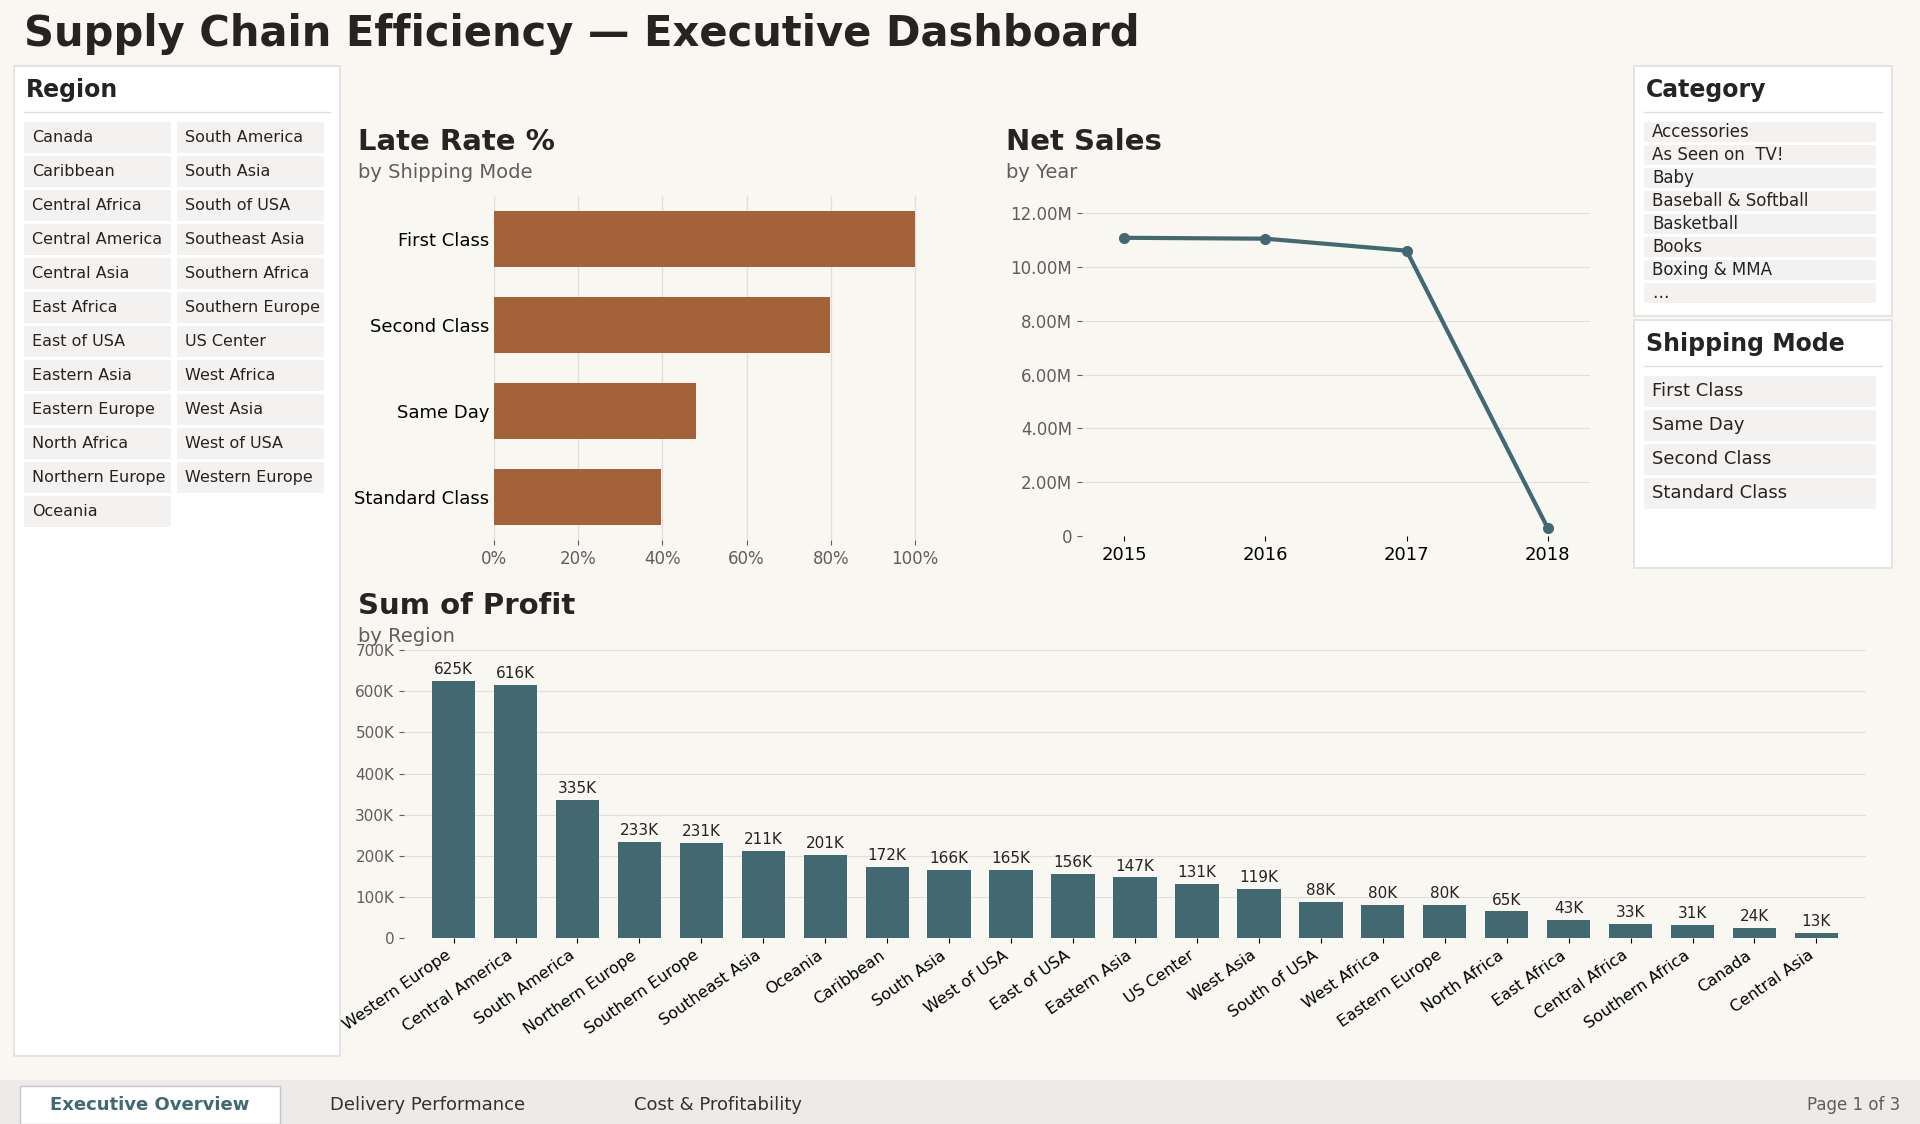

Layout of this report page (visuals, bound fields, positions):
{"tool":"powerbi","page":{"name":"Executive Overview","canvas":[1920,1080],"ordinal":0},"visuals":[{"type":"barChart","title":"Late Rate %","fields":{"Category":["Fact_OrderItems.Shipping_Mode"],"Y":["Fact_OrderItems.Late Rate %"]},"box":[344,116,632,454],"z":4000},{"type":"lineChart","title":"Net Sales","fields":{"Category":["Fact_OrderItems.Order_Year_Month.Variation.Date Hierarchy.Year","Fact_OrderItems.Order_Year_Month.Variation.Date Hierarchy.Quarter","Fact_OrderItems.Order_Year_Month.Variation.Date Hierarchy.Month","Fact_OrderItems.Order_Year_Month.Variation.Date Hierarchy.Day"],"Y":["Sum(Fact_OrderItems.Net_Sales)"]},"box":[992,116,638,454],"z":5000},{"type":"columnChart","fields":{"Category":["Fact_OrderItems.Region"],"Y":["Sum(Fact_OrderItems.Profit)"]},"box":[344,580,1552,478],"z":6000},{"type":"advancedSlicerVisual","fields":{"Values":["Fact_OrderItems.Region"]},"box":[10,64,334,994],"z":7000},{"type":"advancedSlicerVisual","fields":{"Values":["Fact_OrderItems.Category"]},"box":[1630,64,266,254],"z":8000},{"type":"advancedSlicerVisual","title":"Shipping Mode","fields":{"Values":["Fact_OrderItems.Shipping_Mode"]},"box":[1630,318,266,252],"z":9000},{"type":"textbox","box":[10,0,1262,64],"z":10000}]}

Visuals, with their boxes on the page's 1920x1080 design canvas (x1, y1, x2, y2). These are canvas units, not pixel positions in the 1920x1124 screenshot, which may show the page scaled, cropped or inside an application window:
"Late Rate %" barChart: 344 116 976 570
"Net Sales" lineChart: 992 116 1630 570
columnChart - Fact_OrderItems.Region x Sum(Fact_OrderItems.Profit): 344 580 1896 1058
advancedSlicerVisual - Fact_OrderItems.Region: 10 64 344 1058
advancedSlicerVisual - Fact_OrderItems.Category: 1630 64 1896 318
"Shipping Mode" advancedSlicerVisual: 1630 318 1896 570
textbox: 10 0 1272 64
